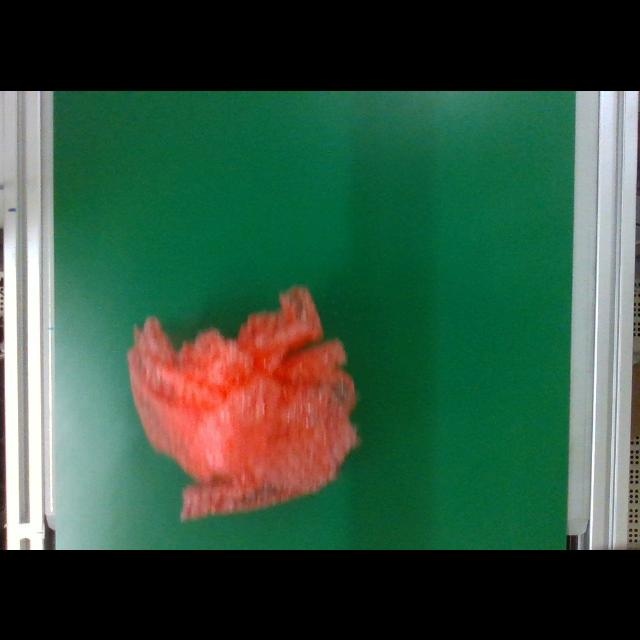scrap_plastic: (126, 284, 364, 520)
